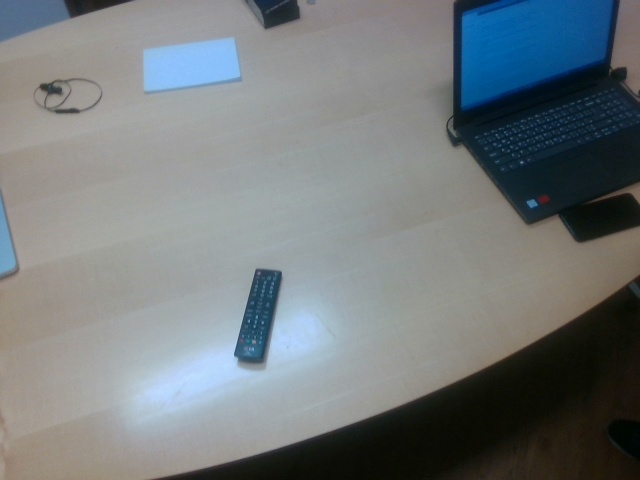remote: (235, 266, 280, 363)
